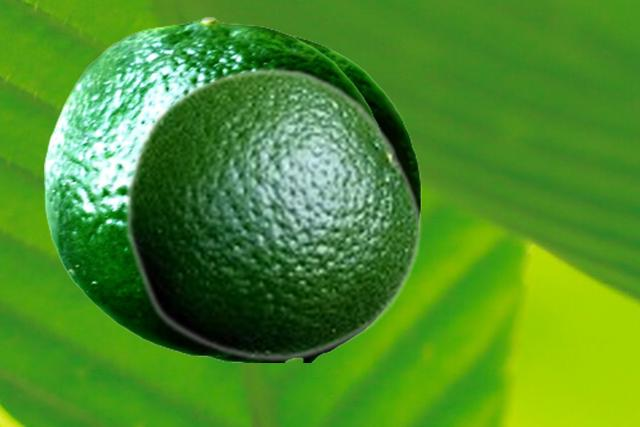calamansi: (44, 16, 381, 355), (123, 66, 422, 362), (197, 32, 420, 361)
